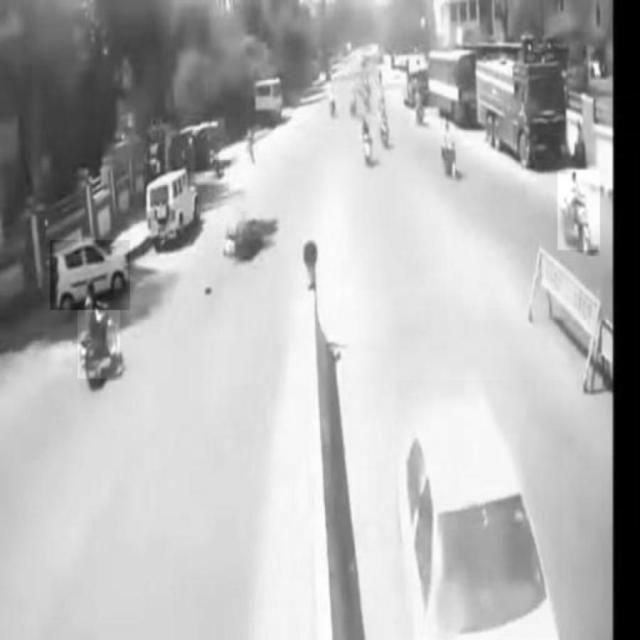vehicle: (395, 380, 562, 638), (51, 240, 131, 310), (77, 284, 121, 378), (143, 169, 201, 240), (558, 171, 600, 251)
